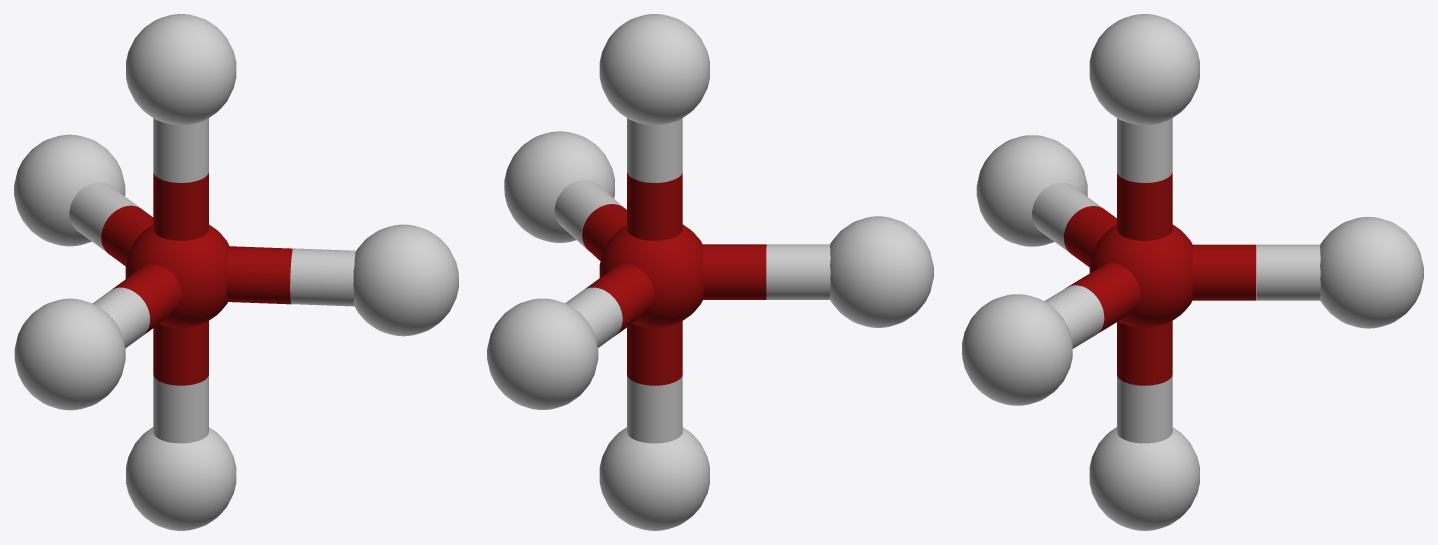
Rendered from Atom Shape 8 - Trigonal Bipyramidical.fbx.
3 renders of one model, left to right at view 1: azimuth 30°, elevation 25°; view 2: azimuth 150°, elevation 25°; view 3: azimuth 270°, elevation 25°, orthographic.
Visible parts, largest first — view 1: Sphere_1_4, Sphere_1, Sphere_1_5, Sphere_1_2, Sphere_1_3, Sphere, Cylinder_2_6, Cylinder_2_7, Cylinder_2_2, Cylinder_1, Cylinder_2, Cylinder (+4 smaller); view 2: Sphere_1_3, Sphere_1, Sphere_1_4, Sphere_1_2, Sphere_1_5, Sphere, Cylinder_2_4, Cylinder_1_2, Cylinder_2_2, Cylinder_1, Cylinder_2, Cylinder (+4 smaller); view 3: Sphere_1_5, Sphere_1, Sphere_1_3, Sphere_1_2, Sphere_1_4, Sphere, Cylinder_2_3, Cylinder_2_5, Cylinder_2_2, Cylinder_1, Cylinder, Cylinder_2 (+4 smaller).
Part boxes in pixels (left/top/right/bottom): Sphere_1_4: left=14, top=298, right=125, bottom=410; Sphere_1: left=126, top=14, right=236, bottom=124; Sphere_1_5: left=353, top=224, right=458, bottom=336; Sphere_1_2: left=126, top=427, right=236, bottom=530; Sphere_1_3: left=14, top=134, right=125, bottom=246; Sphere: left=125, top=224, right=229, bottom=327; Cylinder_2_6: left=226, top=246, right=292, bottom=304; Cylinder_2_7: left=290, top=248, right=356, bottom=306; Cylinder_2_2: left=153, top=375, right=208, bottom=443; Cylinder_1: left=153, top=173, right=208, bottom=240; Cylinder_2: left=153, top=118, right=208, bottom=182; Cylinder: left=153, top=321, right=208, bottom=385; Sphere_1_3: left=487, top=298, right=598, bottom=409; Sphere_1: left=599, top=14, right=709, bottom=124; Sphere_1_4: left=830, top=216, right=933, bottom=327; Sphere_1_2: left=599, top=427, right=709, bottom=530; Sphere_1_5: left=504, top=131, right=614, bottom=242; Sphere: left=599, top=224, right=703, bottom=327; Cylinder_2_4: left=766, top=244, right=830, bottom=299; Cylinder_1_2: left=703, top=244, right=766, bottom=299; Cylinder_2_2: left=627, top=375, right=682, bottom=443; Cylinder_1: left=627, top=173, right=682, bottom=240; Cylinder_2: left=627, top=118, right=682, bottom=182; Cylinder: left=627, top=321, right=682, bottom=385; Sphere_1_5: left=962, top=294, right=1072, bottom=405; Sphere_1: left=1089, top=14, right=1199, bottom=124; Sphere_1_3: left=1320, top=217, right=1423, bottom=328; Sphere_1_2: left=1089, top=427, right=1199, bottom=530; Sphere_1_4: left=976, top=135, right=1087, bottom=246; Sphere: left=1089, top=224, right=1192, bottom=327; Cylinder_2_3: left=1256, top=244, right=1320, bottom=300; Cylinder_2_5: left=1192, top=244, right=1256, bottom=300; Cylinder_2_2: left=1117, top=375, right=1172, bottom=443; Cylinder_1: left=1117, top=172, right=1172, bottom=240; Cylinder: left=1117, top=321, right=1172, bottom=385; Cylinder_2: left=1117, top=118, right=1172, bottom=182.
Size of the model in its own units: 872 by 1001 by 827.
